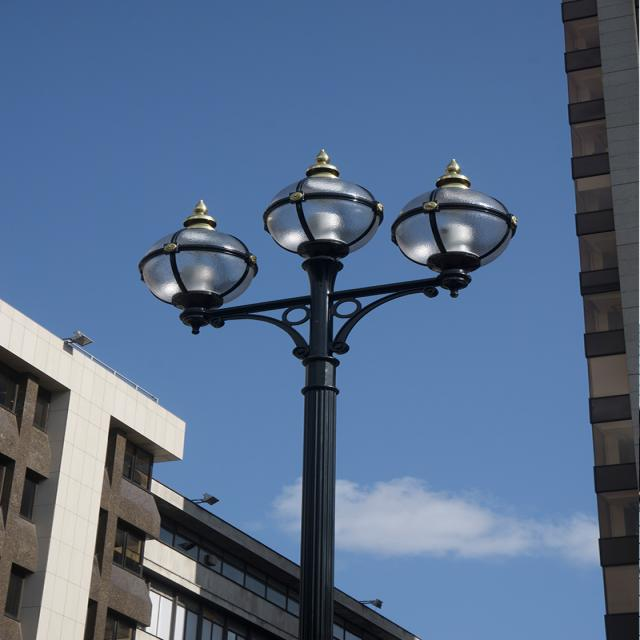Street Light: (137, 147, 515, 640)
